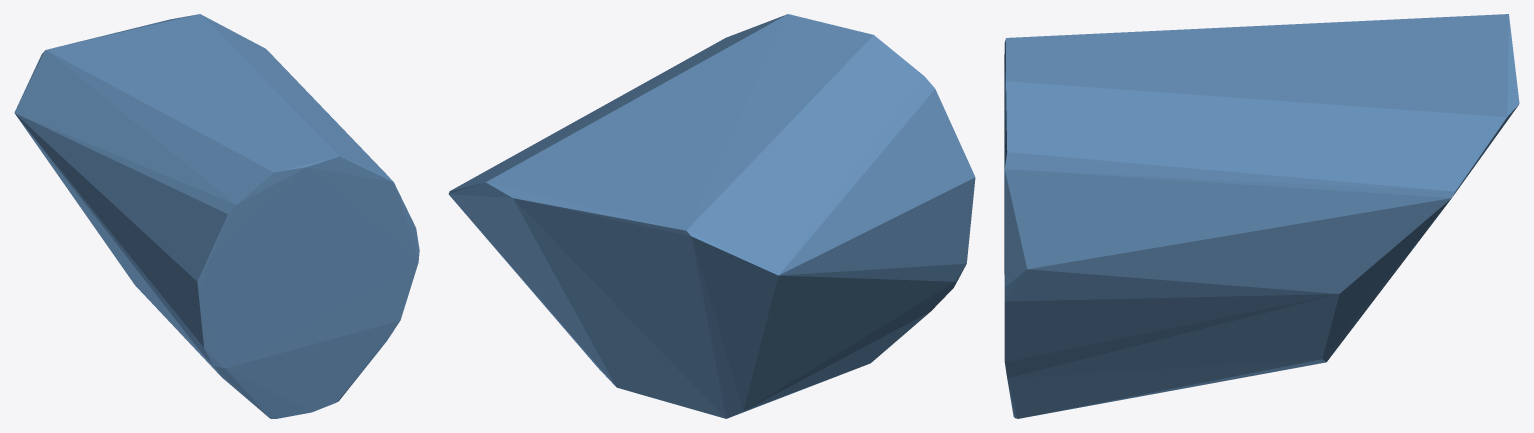
File: bucket_utility_red_a02.glb
3 views of the same model, side by side, from view 1: azimuth 30°, elevation 25°; view 2: azimuth 150°, elevation 25°; view 3: azimuth 270°, elevation 25° (orthographic). The views are drawn at different scales.
Visible parts, largest first — view 1: geometry_0; view 2: geometry_0; view 3: geometry_0.
Boxes of the visible parts, x1,y1,x2,y2 form: geometry_0: (14,14,419,418); geometry_0: (448,14,975,418); geometry_0: (1004,14,1519,418).
Size of the model in its own units: 0.369 by 0.3502 by 0.4796.
